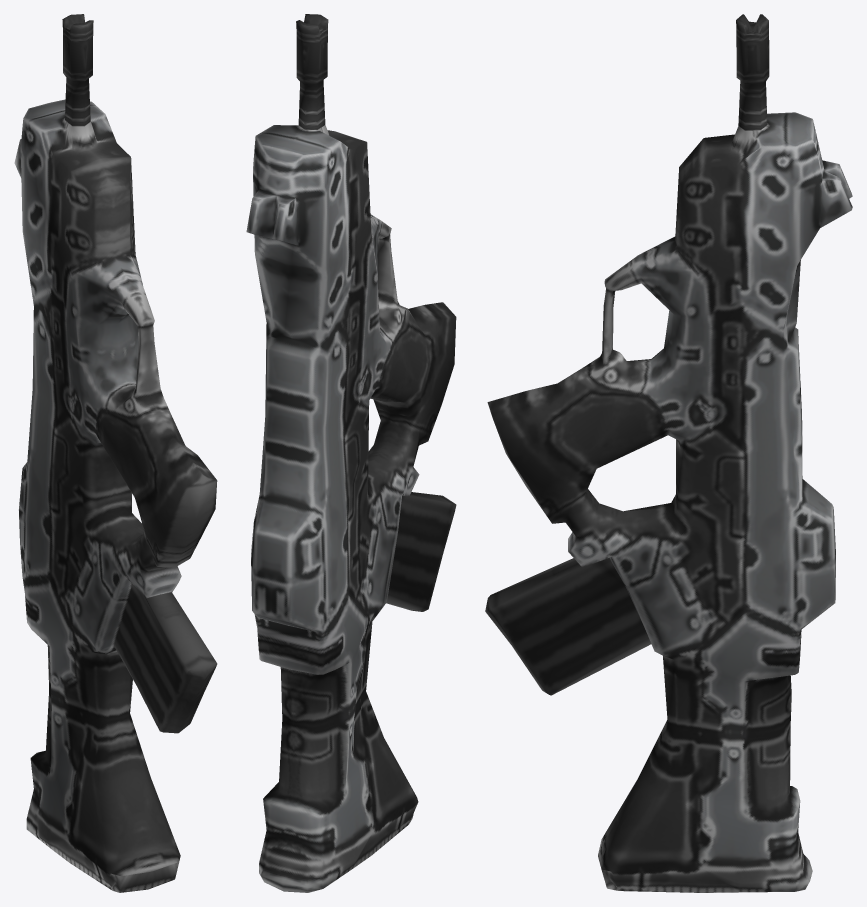
File: gunLOD2.FBX
3 renders of one model, left to right at view 1: azimuth 30°, elevation 25°; view 2: azimuth 150°, elevation 25°; view 3: azimuth 270°, elevation 25°, orthographic. The views are drawn at different scales.
Parts seen in each view (by area): view 1: gun; view 2: gun; view 3: gun.
Boxes of the visible parts, x1,y1,x2,y2 form: gun: [14, 14, 217, 892]; gun: [246, 14, 456, 892]; gun: [485, 14, 852, 892].
Size of the model in its own units: 9.17 by 37.77 by 98.09.
